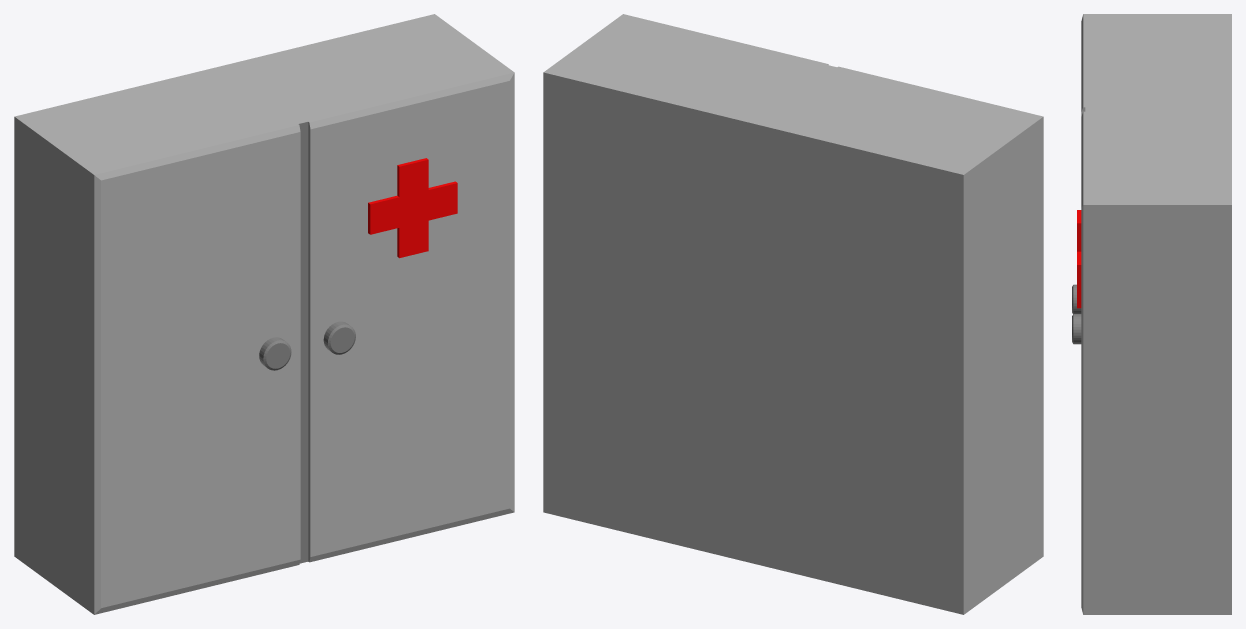
The model's file is MedicineCabinet.fbx.
3 renders of one model, left to right at view 1: azimuth 30°, elevation 25°; view 2: azimuth 150°, elevation 25°; view 3: azimuth 270°, elevation 25°, orthographic. The views are drawn at different scales.
Parts seen in each view (by area): view 1: medicine_cabinet; view 2: medicine_cabinet; view 3: medicine_cabinet.
Boxes of the visible parts, x1,y1,x2,y2 form: medicine_cabinet: (14,14,514,614); medicine_cabinet: (543,14,1043,614); medicine_cabinet: (1072,14,1231,614).
Size of the model in its own units: 2 by 0.7074 by 2.
